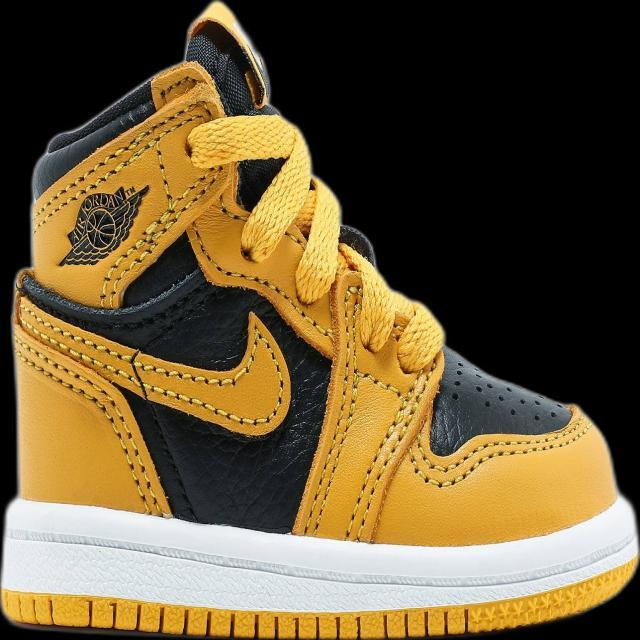J1_InsoleChar: (2, 2, 636, 636)
J1_ShoeLogo: (57, 182, 149, 267)
J1_StitchPattern: (11, 254, 593, 543), (31, 73, 340, 312), (1, 556, 636, 637), (290, 243, 444, 543), (13, 292, 292, 439), (11, 296, 175, 519), (30, 95, 216, 234), (1, 590, 471, 637), (184, 111, 313, 264), (292, 276, 365, 539), (341, 355, 435, 544), (405, 402, 593, 490)
